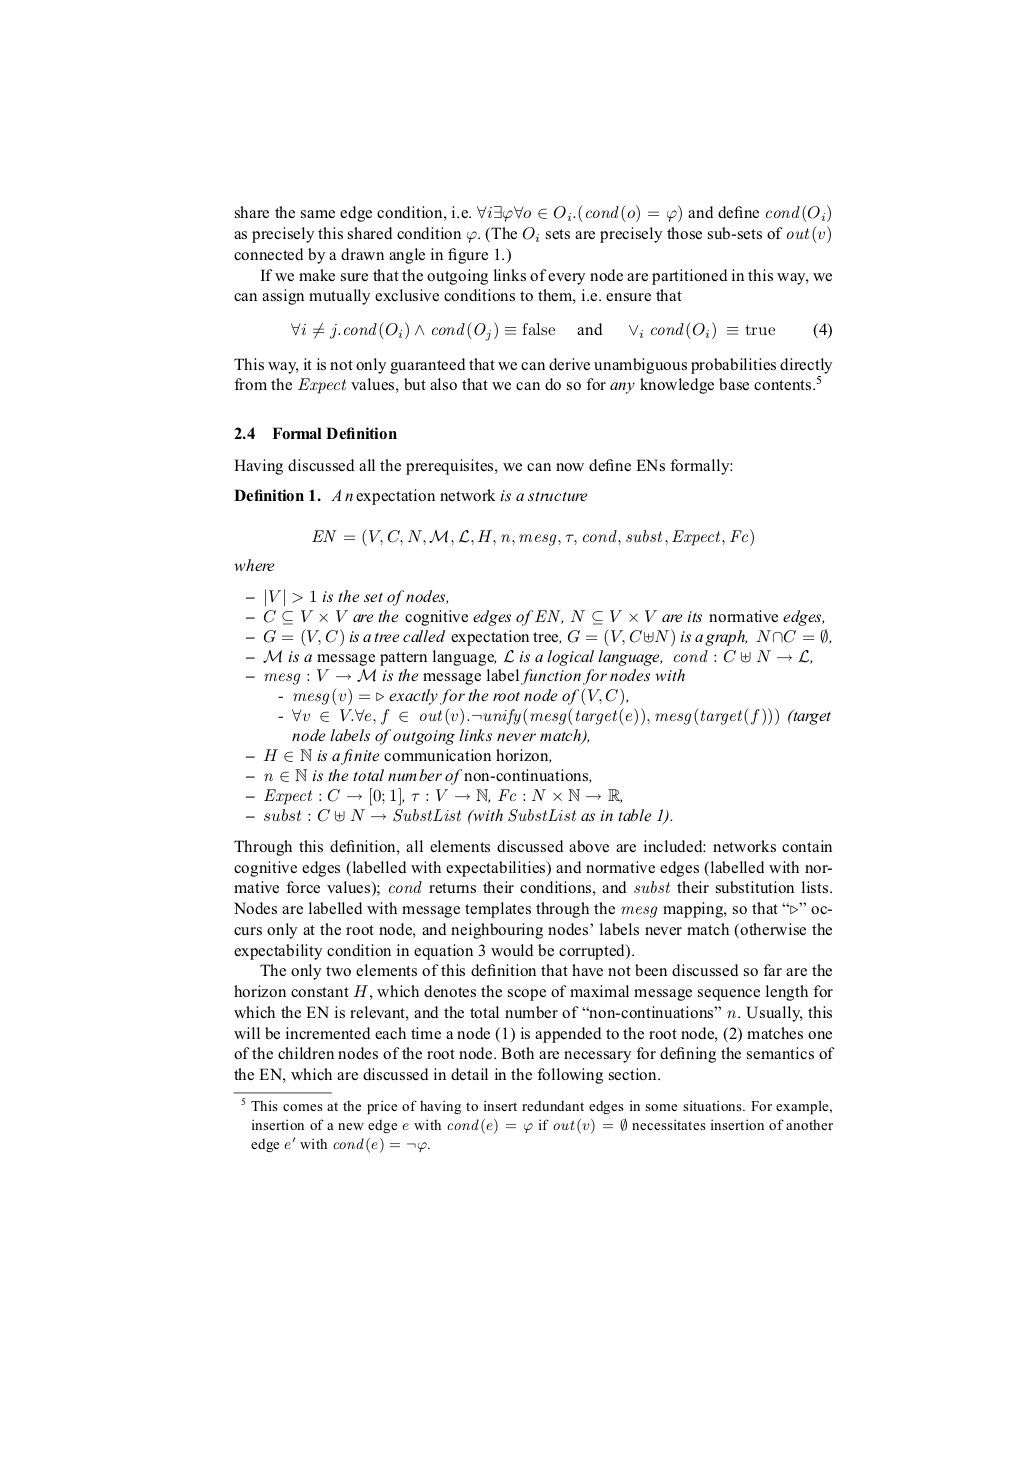formula: (291, 321, 831, 341), (312, 528, 753, 547)
